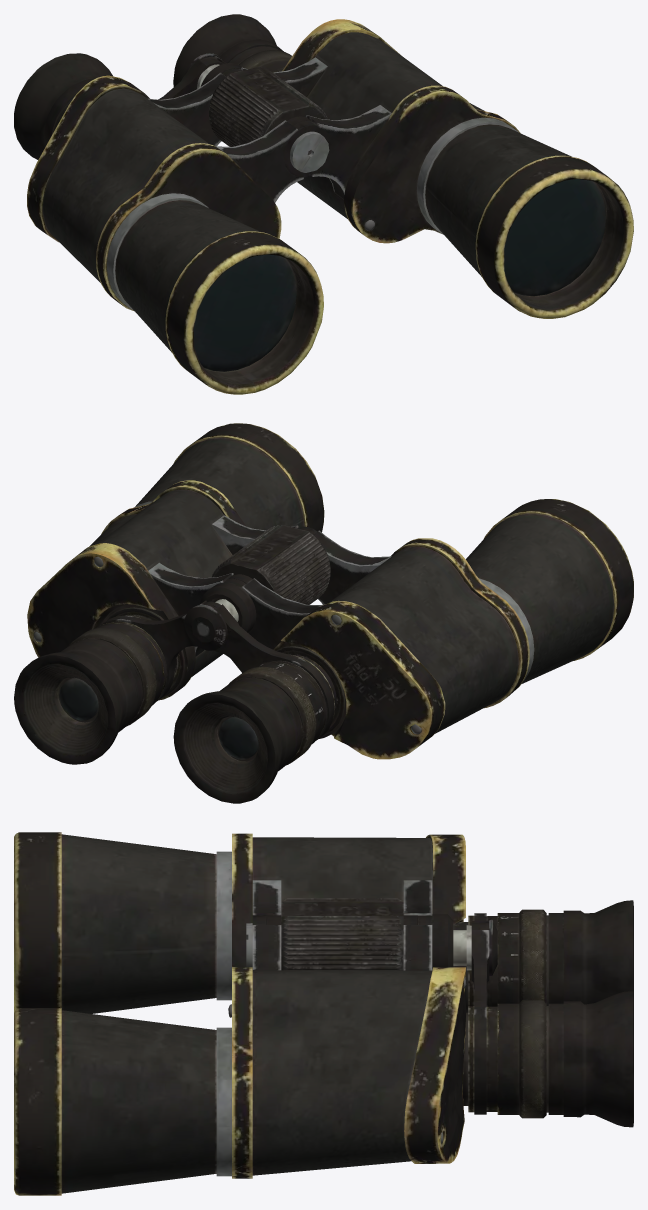
Rendered from vintage_binocular.glb.
3 renders of one model, top to bottom at view 1: azimuth 30°, elevation 25°; view 2: azimuth 150°, elevation 25°; view 3: azimuth 270°, elevation 25°, orthographic. The views are drawn at different scales.
Visible parts, largest first — view 1: vintage_binocular_left_lens; view 2: vintage_binocular_left_lens; view 3: vintage_binocular_left_lens.
Boxes of the visible parts, x1,y1,x2,y2 form: vintage_binocular_left_lens: (14, 14, 633, 394); vintage_binocular_left_lens: (14, 423, 633, 803); vintage_binocular_left_lens: (14, 832, 633, 1195).
Size of the model in its own units: 0.194 by 0.0684 by 0.1992.
Materials: 1 (1 with a texture image).
